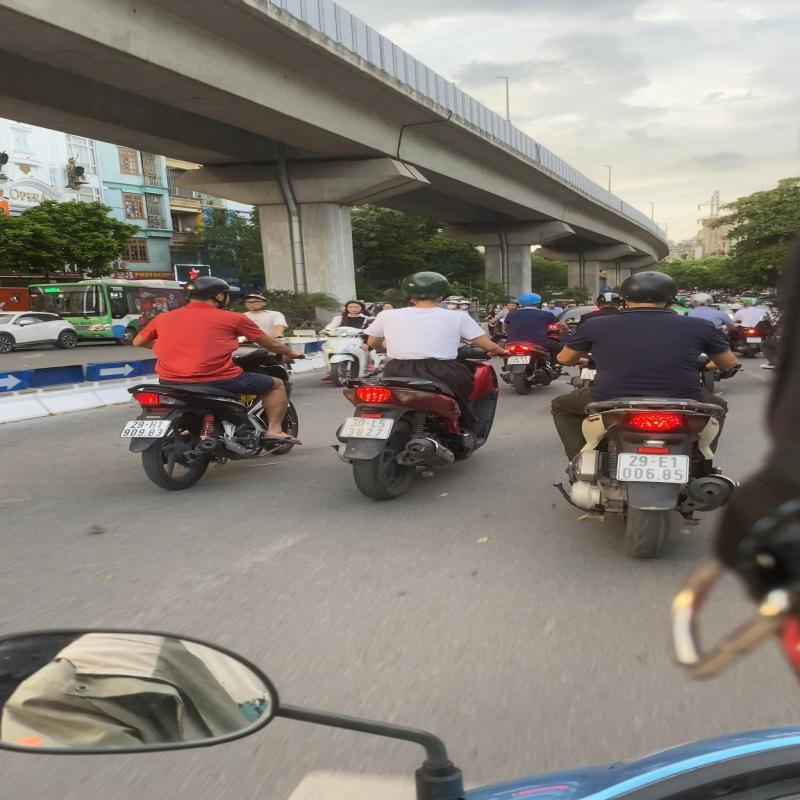helmet: (620, 270, 680, 304), (400, 272, 452, 301), (182, 276, 240, 300)
licenseplate: (612, 450, 694, 485), (338, 416, 397, 440), (115, 418, 175, 440)
motorcyclist: (538, 264, 754, 560), (334, 270, 516, 501), (115, 274, 306, 493)
